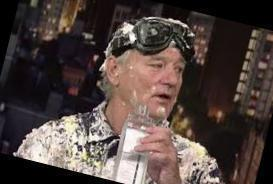Drunk: (133, 43, 184, 119)
